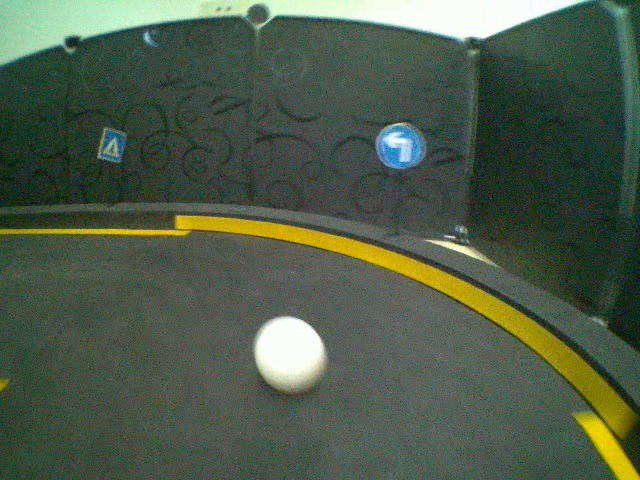ball: (255, 317, 332, 398)
